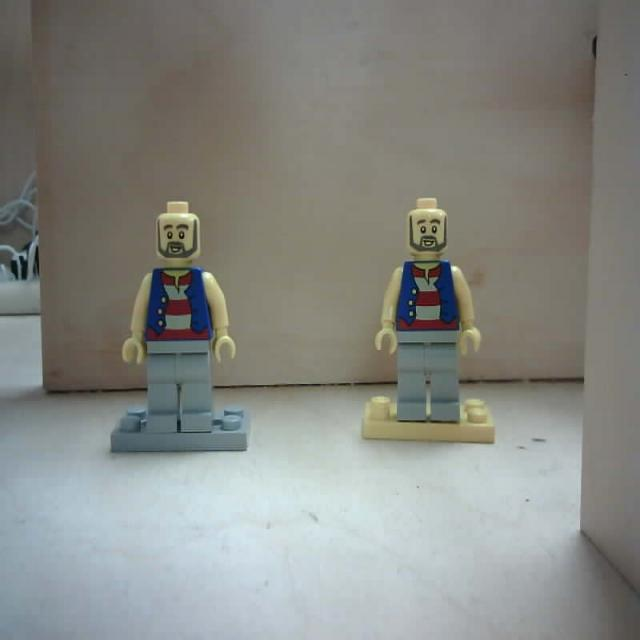Lego-People: (112, 200, 251, 453), (359, 198, 497, 448)
